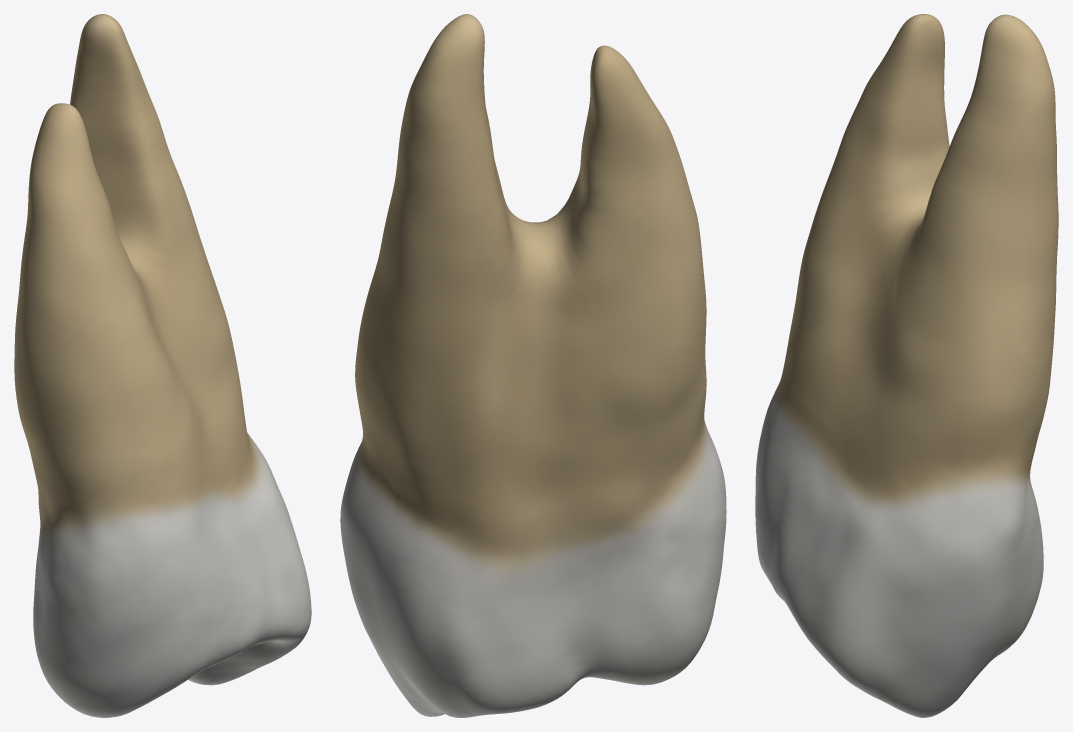
Rendered from Premolar_1_Kanan_RA.glb.
The picture shows the model from 3 angles, left to right: view 1: azimuth 30°, elevation 25°; view 2: azimuth 150°, elevation 25°; view 3: azimuth 270°, elevation 25°; orthographic projection. The views are drawn at different scales.
Parts seen in each view (by area): view 1: Object_3.001; view 2: Object_3.001; view 3: Object_3.001.
Part boxes in pixels (<box>): Object_3.001: <box>14,14,311,717</box>; Object_3.001: <box>340,14,726,717</box>; Object_3.001: <box>755,14,1058,717</box>.
Size of the model in its own units: 6.44 by 14.88 by 6.15.
Materials: 1 (1 with a texture image).
